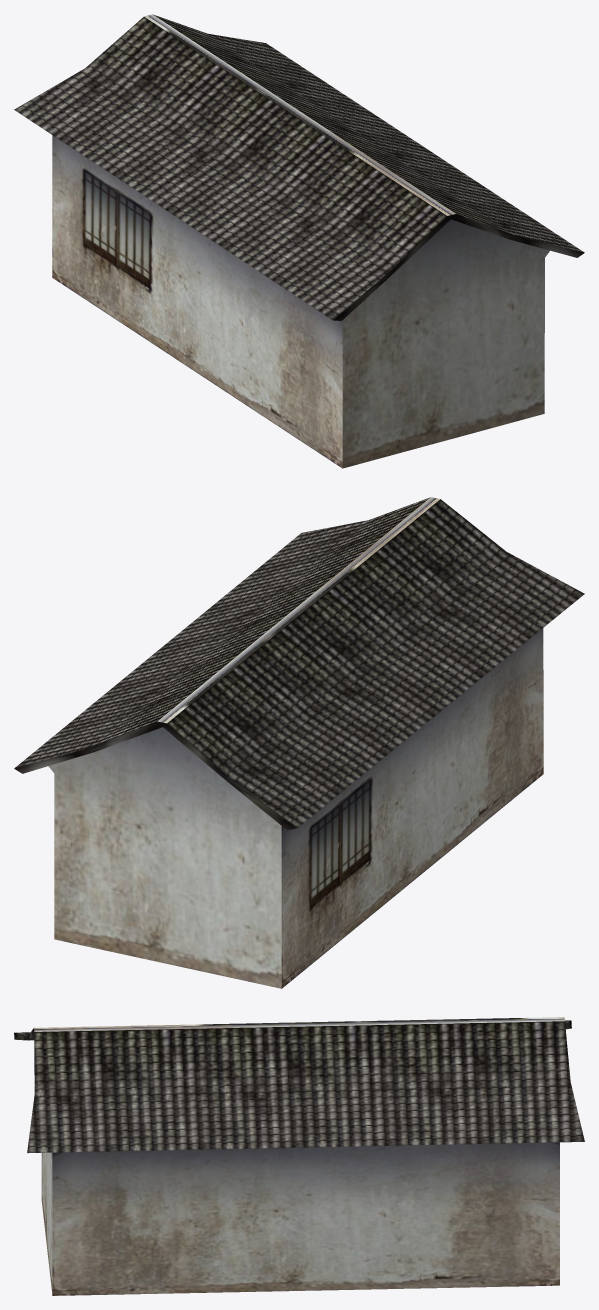
The model's file is ian1595.obj.
3 renders of one model, top to bottom at view 1: azimuth 30°, elevation 25°; view 2: azimuth 150°, elevation 25°; view 3: azimuth 270°, elevation 25°, orthographic. The views are drawn at different scales.
Visible parts, largest first — view 1: ian1595; view 2: ian1595; view 3: ian1595.
Part boxes in pixels (x1,y1,x2,y2): ian1595: (14, 14, 584, 468); ian1595: (14, 497, 584, 988); ian1595: (14, 1017, 584, 1295).
Size of the model in its own units: 127 by 99.21 by 235.
